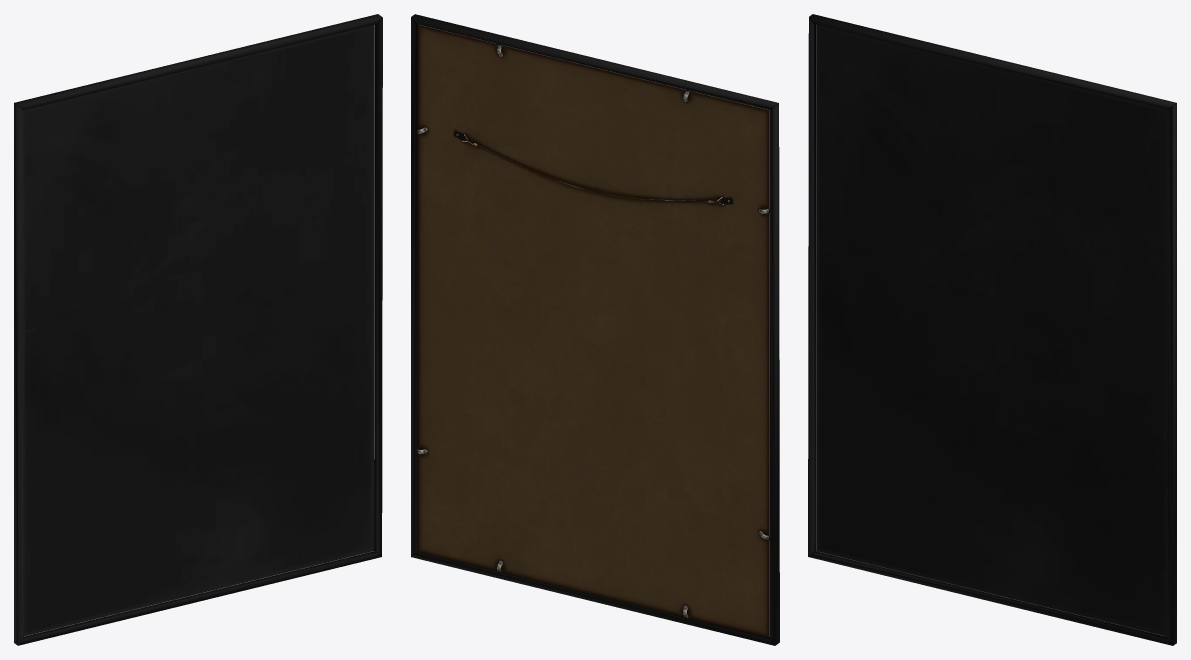
The model's file is hanging_picture_frame_01.glb.
3 renders of one model, left to right at view 1: azimuth 30°, elevation 25°; view 2: azimuth 150°, elevation 25°; view 3: azimuth 330°, elevation 25°, orthographic.
Visible parts, largest first — view 1: hanging_picture_frame_01; view 2: hanging_picture_frame_01; view 3: hanging_picture_frame_01.
Part boxes in pixels (bbox=[...]): hanging_picture_frame_01: bbox=[14, 14, 382, 645]; hanging_picture_frame_01: bbox=[411, 14, 779, 645]; hanging_picture_frame_01: bbox=[808, 14, 1176, 645].
Bounding box in the file's own units: 0.5927 × 0.8387 × 0.0151.
Materials: 3 (3 with a texture image).
